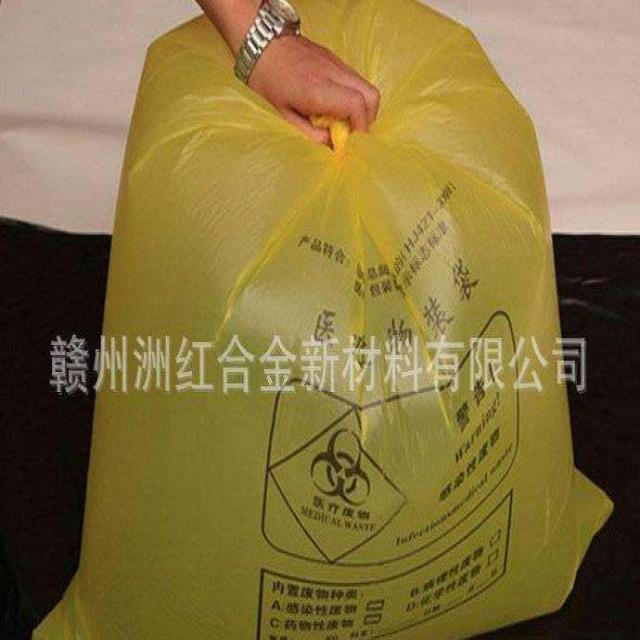waste: (51, 8, 604, 636)
